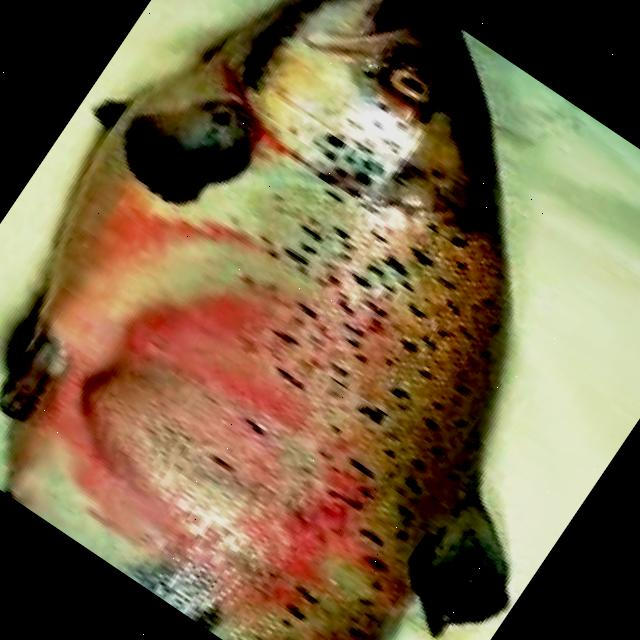Aeromonas Septicemia: (0, 0, 510, 640), (1, 0, 509, 640)
